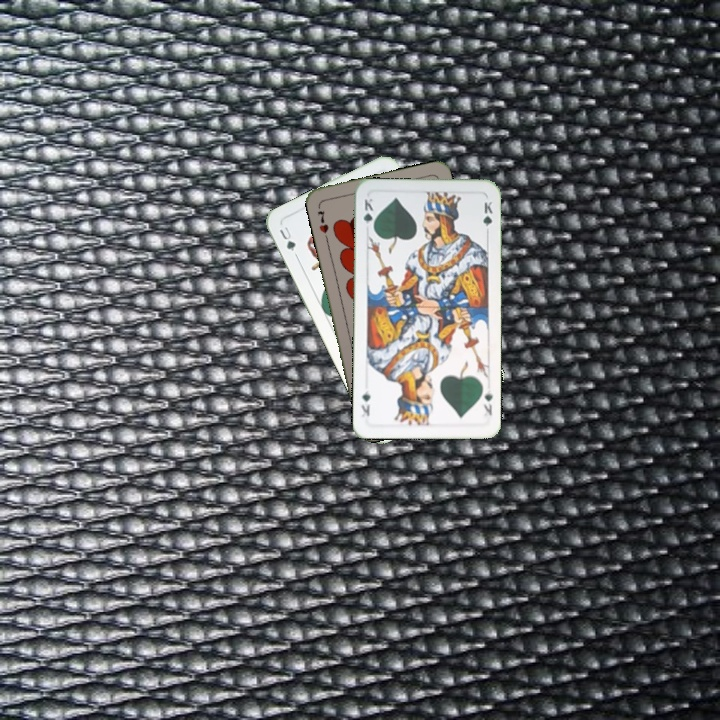GK: (359, 194, 376, 234), (479, 386, 495, 419)
GU: (275, 222, 298, 254)
H7: (313, 206, 331, 236)
